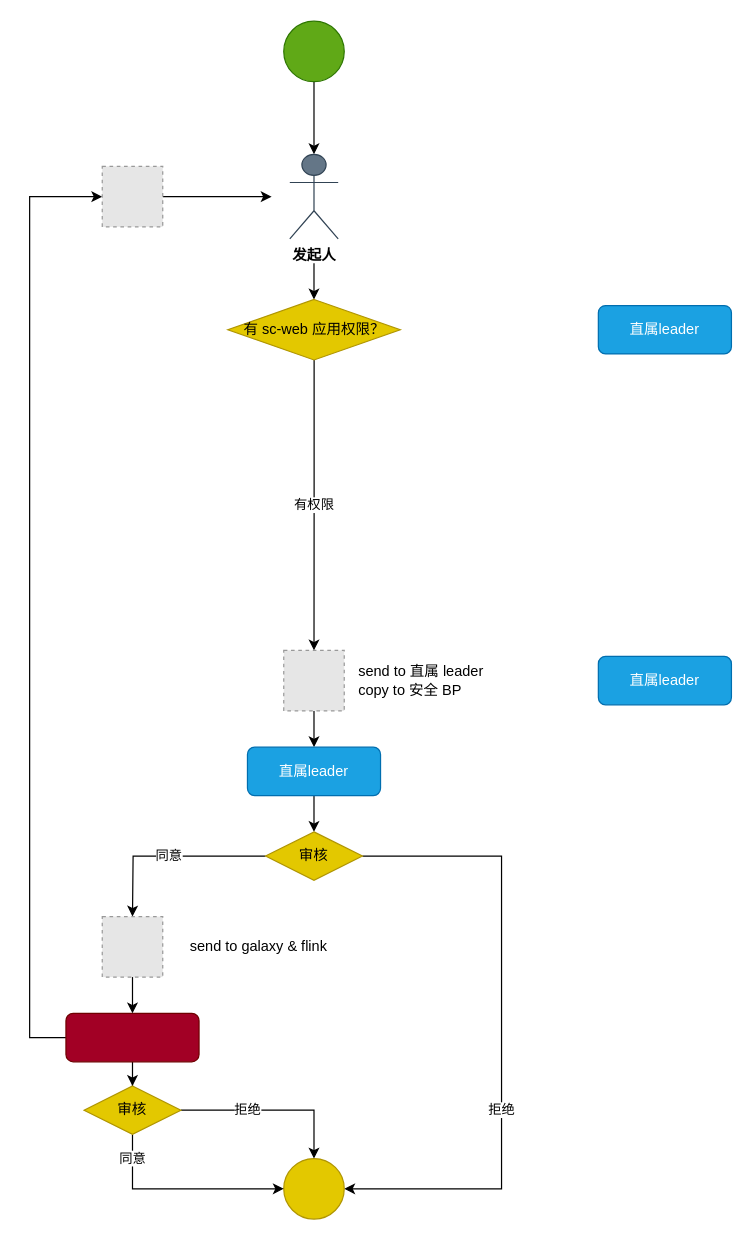
This 753x1240 diagram has some shape labels left out. Grey dashed boxes stand in for pictures. The shapes that lost their labels are listed below. From the top down, each one's box as (x1, y1, x2, y2) in pixels, then its label:
(283, 20, 344, 82): Start
(65, 1012, 199, 1062): galaxy.wang flink.zhang
(283, 1157, 344, 1219): End
